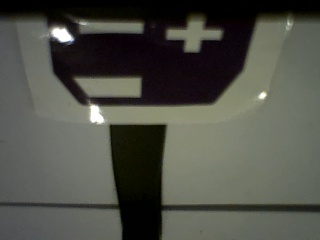Supply_Station: (46, 16, 258, 108)
